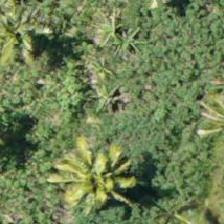coconut_tree: (54, 133, 144, 223), (0, 0, 60, 77)
